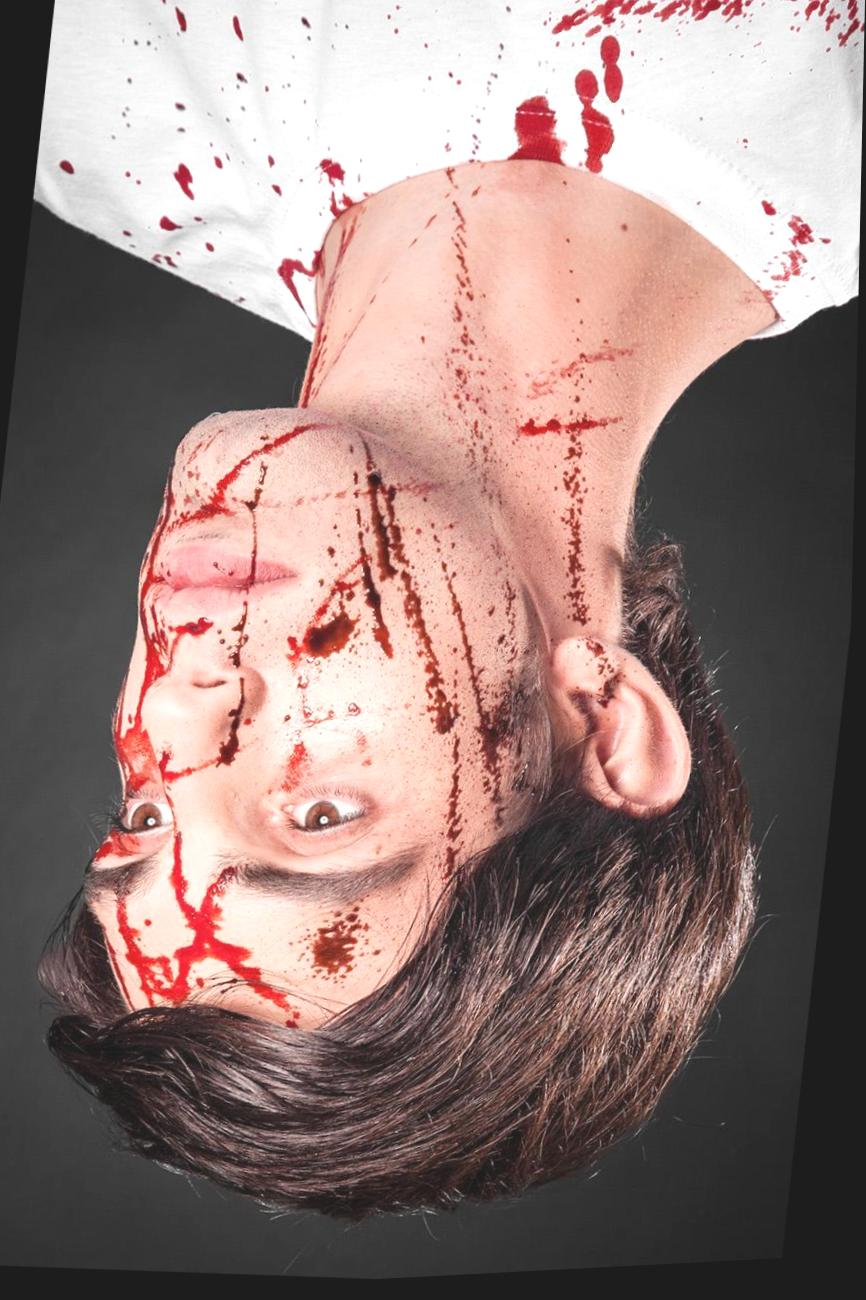Fire: (90, 173, 699, 1033), (61, 0, 865, 340)
